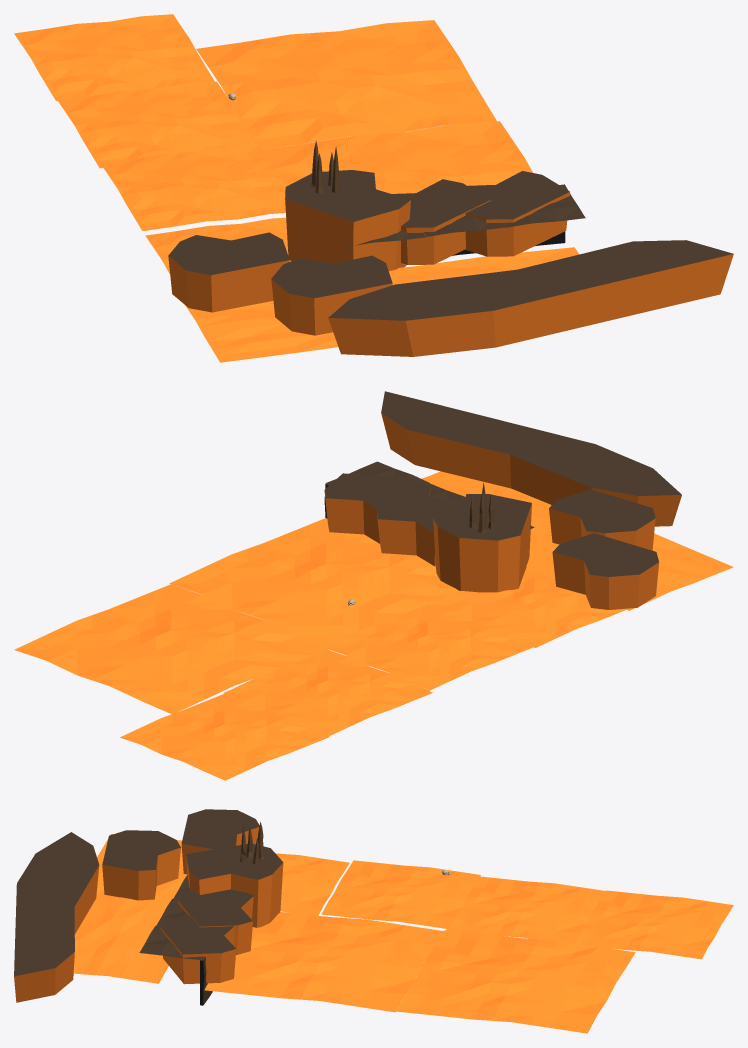
3 views of the same model, one above another, from view 1: azimuth 30°, elevation 25°; view 2: azimuth 150°, elevation 25°; view 3: azimuth 270°, elevation 25° (orthographic). The views are drawn at different scales.
Visible parts, largest first — view 1: -mesh; view 2: -mesh; view 3: -mesh.
Part boxes in pixels (box(x1,y1,x2,y2)): -mesh: box(14, 14, 733, 362); -mesh: box(14, 391, 733, 780); -mesh: box(14, 809, 733, 1033).
Bounding box in the file's own units: 28.6 × 6.78 × 43.54.
